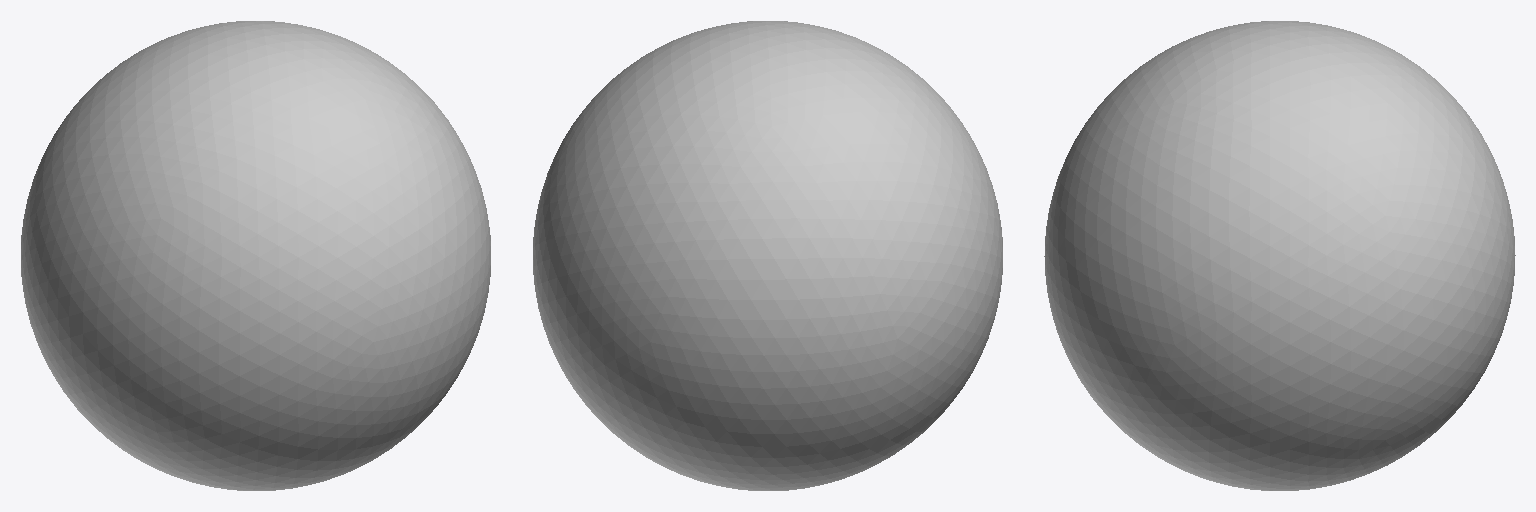
Rendered from ball3k.obj.
3 renders of one model, left to right at view 1: azimuth 30°, elevation 25°; view 2: azimuth 150°, elevation 25°; view 3: azimuth 270°, elevation 25°, orthographic.
Parts seen in each view (by area): view 1: pPlatonic1; view 2: pPlatonic1; view 3: pPlatonic1.
Boxes of the visible parts, <box> form: pPlatonic1: <box>21,21,490,490</box>; pPlatonic1: <box>533,21,1002,490</box>; pPlatonic1: <box>1044,21,1515,490</box>.
Size of the model in its own units: 2 by 2 by 2.